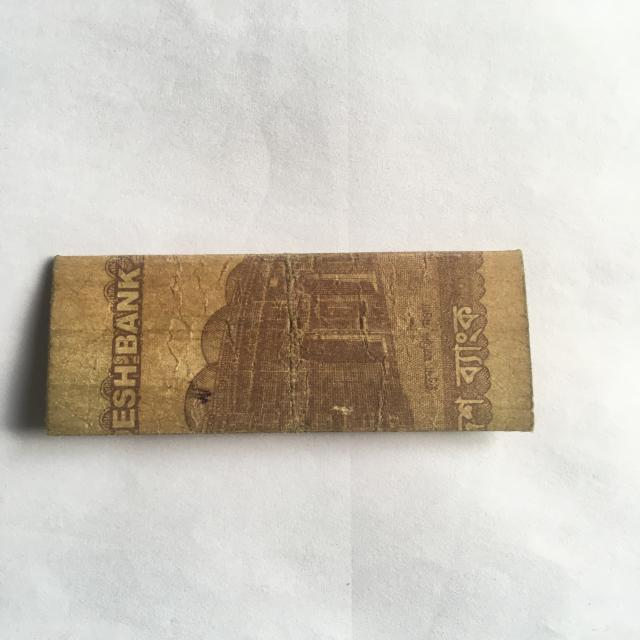Taka: (41, 248, 536, 426)
